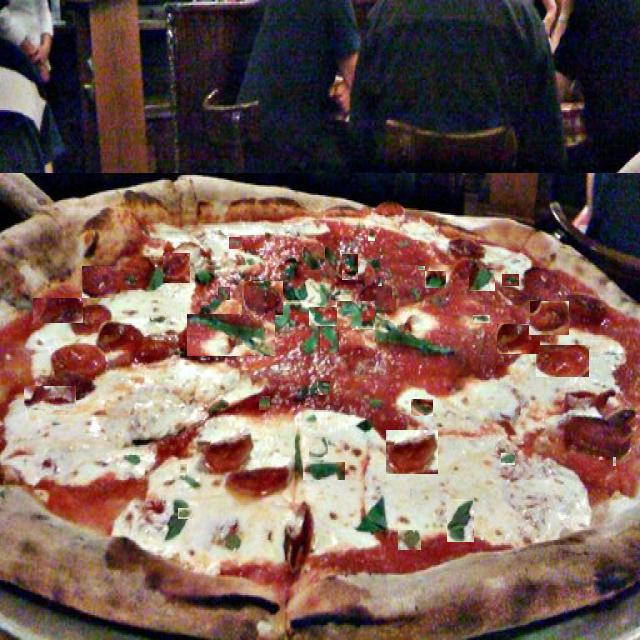basil: (187, 314, 275, 356), (253, 492, 286, 535), (448, 499, 476, 542), (337, 301, 375, 330), (303, 462, 345, 480), (309, 307, 341, 326), (469, 268, 495, 291), (419, 297, 442, 322), (320, 324, 339, 354), (302, 247, 325, 270), (299, 285, 323, 306), (398, 530, 421, 550), (309, 437, 328, 460), (438, 472, 462, 490), (342, 254, 358, 280), (411, 399, 433, 416), (425, 271, 446, 288), (268, 419, 284, 434), (334, 281, 346, 300), (260, 256, 273, 272), (502, 274, 519, 286), (318, 381, 332, 395), (501, 453, 515, 465), (218, 287, 230, 300), (229, 237, 242, 249), (178, 508, 192, 519), (259, 396, 270, 410), (473, 315, 490, 323), (414, 230, 426, 240), (324, 414, 334, 424), (384, 256, 394, 266), (368, 229, 375, 241), (276, 220, 284, 230), (392, 288, 398, 299), (180, 464, 187, 473), (378, 277, 382, 286), (418, 266, 425, 270), (613, 457, 616, 466), (163, 498, 166, 504)
pepperoni: (7, 408, 76, 454), (386, 430, 438, 474), (352, 464, 414, 497), (536, 345, 589, 377), (242, 281, 283, 315), (530, 301, 569, 335), (498, 324, 542, 354), (24, 386, 76, 411), (33, 298, 83, 323), (82, 266, 116, 298), (268, 257, 301, 283), (163, 253, 190, 283)
pizza: (0, 173, 640, 640)
